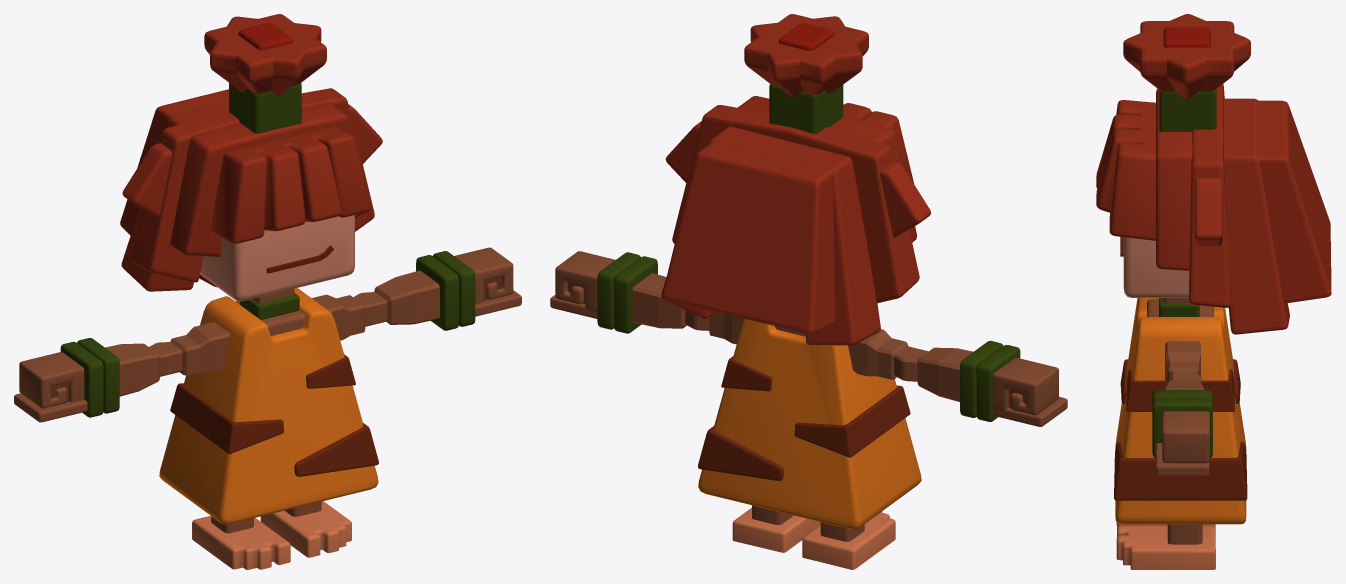
The model's file is zhujiao_01.FBX.
The picture shows the model from 3 angles, left to right: view 1: azimuth 30°, elevation 25°; view 2: azimuth 150°, elevation 25°; view 3: azimuth 270°, elevation 25°; orthographic projection.
Parts seen in each view (by area): view 1: Box1328; view 2: Box1328; view 3: Box1328.
Part boxes in pixels (x1=…): Box1328: x1=14, y1=14, x2=521, y2=569; Box1328: x1=550, y1=14, x2=1067, y2=569; Box1328: x1=1096, y1=14, x2=1331, y2=569.
Size of the model in its own units: 207 by 205 by 86.21.
